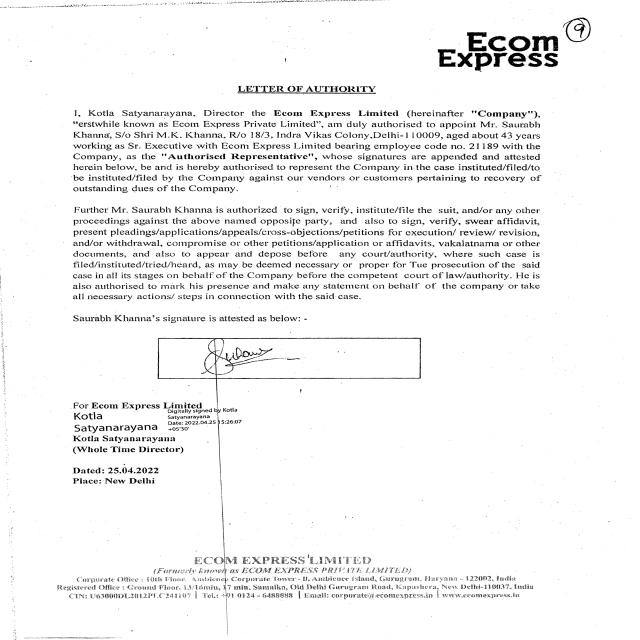page-number: (560, 0, 640, 86)
